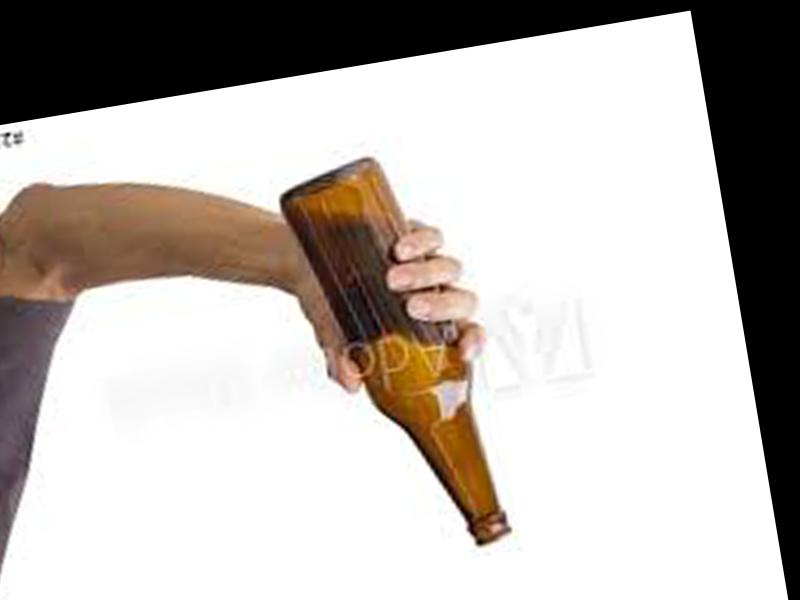Beer: (274, 143, 516, 570)
